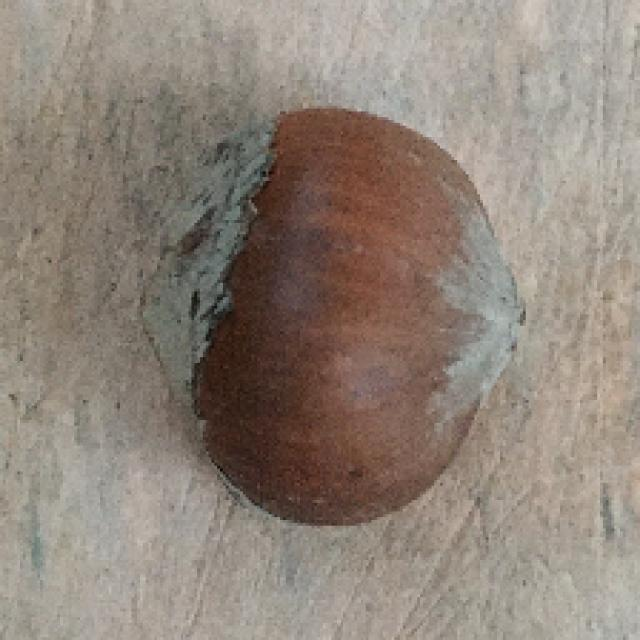damagedHazelnut: (166, 100, 534, 530)
